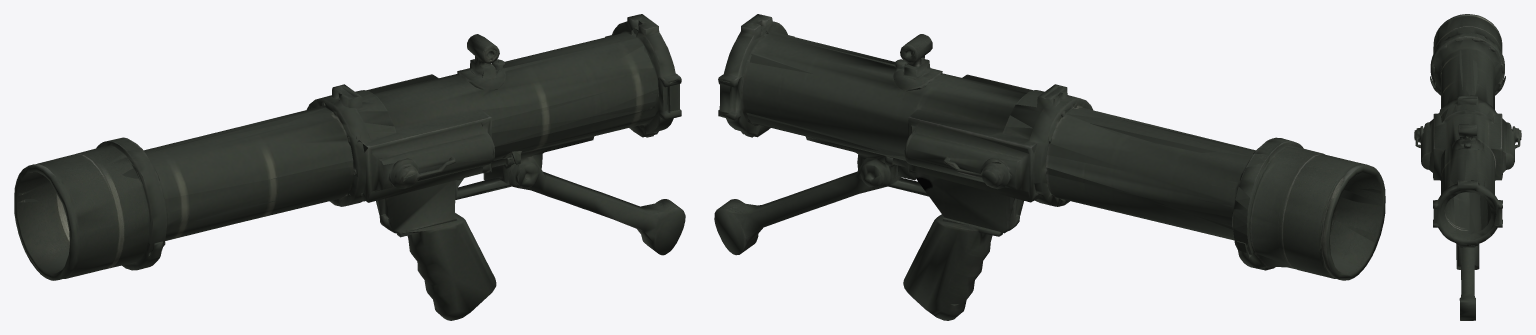
File: RocketLauncher.glb
The picture shows the model from 3 angles, left to right: view 1: azimuth 30°, elevation 25°; view 2: azimuth 150°, elevation 25°; view 3: azimuth 270°, elevation 25°; orthographic projection. The views are drawn at different scales.
Parts seen in each view (by area): view 1: output_unwrapped; view 2: output_unwrapped; view 3: output_unwrapped.
Boxes of the visible parts, bbox=[...] form: output_unwrapped: bbox=[14, 14, 685, 320]; output_unwrapped: bbox=[714, 14, 1385, 320]; output_unwrapped: bbox=[1414, 14, 1521, 320].
Size of the model in its own units: 0.7388 by 0.3 by 0.1875.
1 material, 1 textured.
